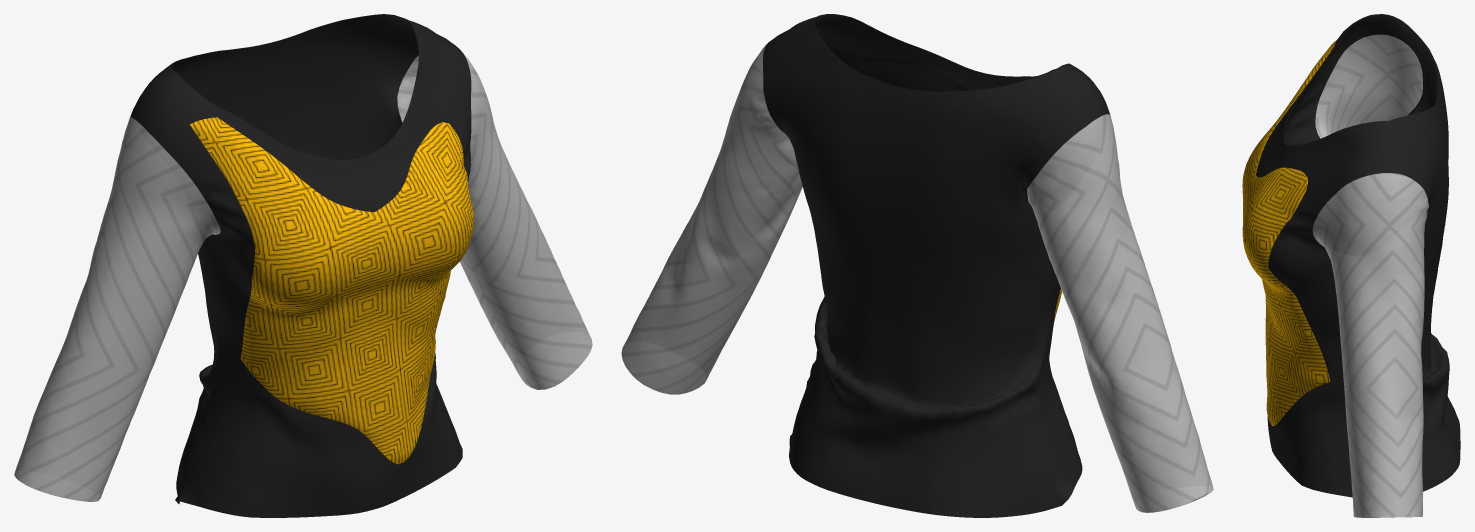
Rendered from 3Angle.fbx.
3 renders of one model, left to right at view 1: azimuth 30°, elevation 25°; view 2: azimuth 150°, elevation 25°; view 3: azimuth 270°, elevation 25°, orthographic. The views are drawn at different scales.
Visible parts, largest first — view 1: 3Angle; view 2: 3Angle; view 3: 3Angle.
Boxes of the visible parts, box(x1,y1,x2,y2) form: 3Angle: box(14, 14, 592, 517); 3Angle: box(621, 14, 1213, 517); 3Angle: box(1242, 14, 1460, 517).
Size of the model in its own units: 67.62 by 48.94 by 25.51.
